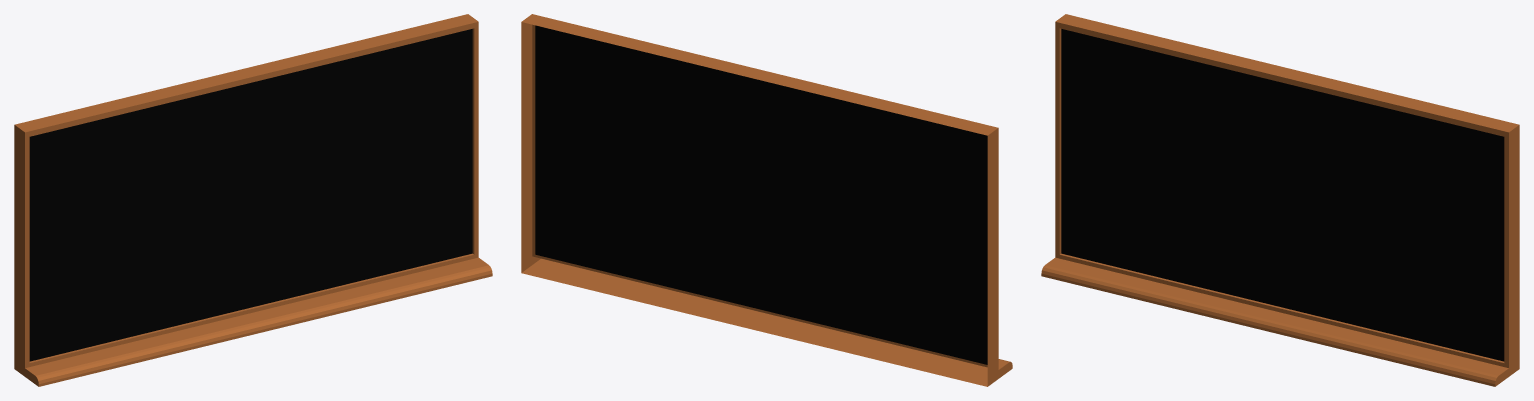
File: BlackBoard.fbx
3 renders of one model, left to right at view 1: azimuth 30°, elevation 25°; view 2: azimuth 150°, elevation 25°; view 3: azimuth 330°, elevation 25°, orthographic. The views are drawn at different scales.
Parts seen in each view (by area): view 1: BLack Board; view 2: BLack Board; view 3: BLack Board.
Boxes of the visible parts, box(x1,y1,x2,y2) form: BLack Board: box(14, 14, 492, 386); BLack Board: box(521, 14, 1012, 386); BLack Board: box(1041, 14, 1519, 386).
Size of the model in its own units: 400 by 206 by 37.19.
